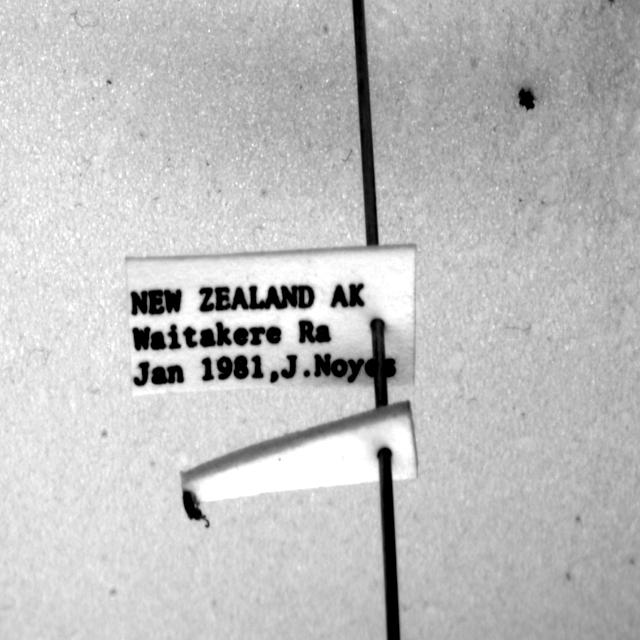typed_label: (126, 246, 415, 394)
